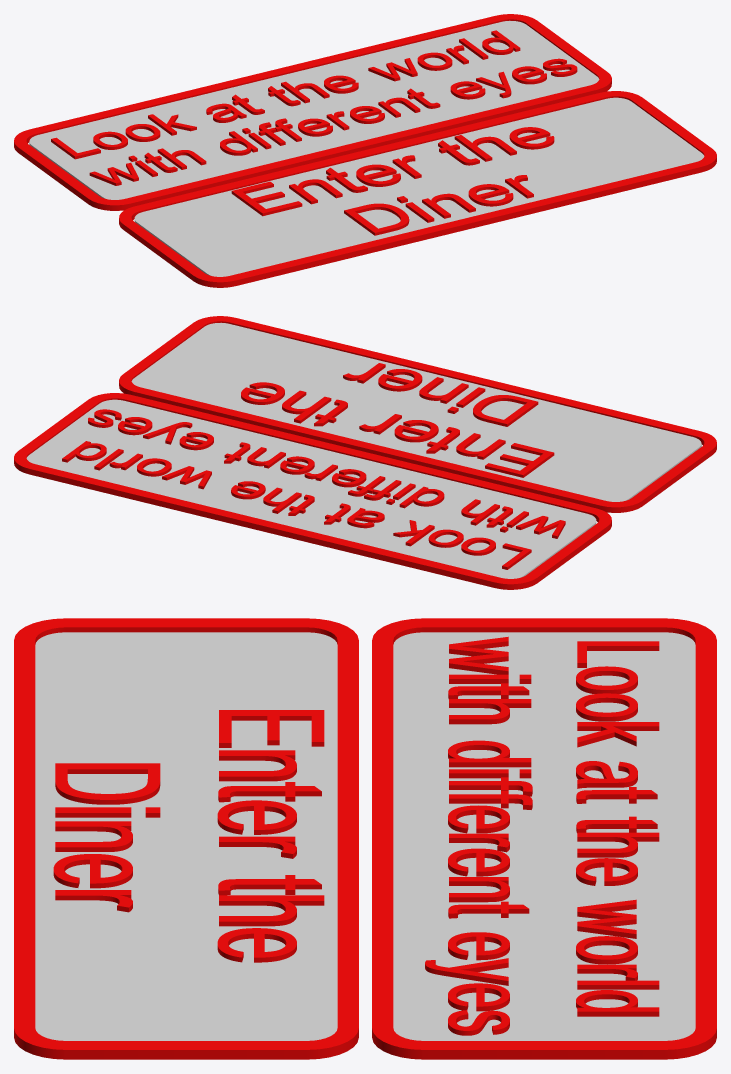
Rendered from DinerSign.fbx.
3 renders of one model, top to bottom at view 1: azimuth 30°, elevation 25°; view 2: azimuth 150°, elevation 25°; view 3: azimuth 270°, elevation 25°, orthographic. The views are drawn at different scales.
Visible parts, largest first — view 1: Rectangle010, Rectangle003, SignEdge007, Text003, SignEdge002, Text008; view 2: Rectangle010, Rectangle003, SignEdge002, Text003, SignEdge007, Text008; view 3: Rectangle010, Rectangle003, Text003, SignEdge002, SignEdge007, Text008.
Part boxes in pixels (x1=…): Rectangle010: x1=134, y1=97, x2=704, y2=276; Rectangle003: x1=29, y1=20, x2=599, y2=199; SignEdge007: x1=119, y1=91, x2=716, y2=287; Text003: x1=51, y1=30, x2=577, y2=185; SignEdge002: x1=14, y1=14, x2=611, y2=210; Text008: x1=231, y1=127, x2=554, y2=235; Rectangle010: x1=131, y1=322, x2=701, y2=501; Rectangle003: x1=26, y1=399, x2=596, y2=578; SignEdge002: x1=14, y1=393, x2=611, y2=589; Text003: x1=62, y1=409, x2=565, y2=569; SignEdge007: x1=119, y1=316, x2=716, y2=512; Text008: x1=241, y1=363, x2=554, y2=477; Rectangle010: x1=35, y1=632, x2=337, y2=1040; Rectangle003: x1=393, y1=632, x2=695, y2=1040; Text003: x1=425, y1=636, x2=659, y2=1035; SignEdge002: x1=372, y1=618, x2=716, y2=1059; SignEdge007: x1=14, y1=618, x2=358, y2=1059; Text008: x1=53, y1=710, x2=324, y2=962.
Bounding box in the file's own units: 95.9 × 1.3 × 66.01.
